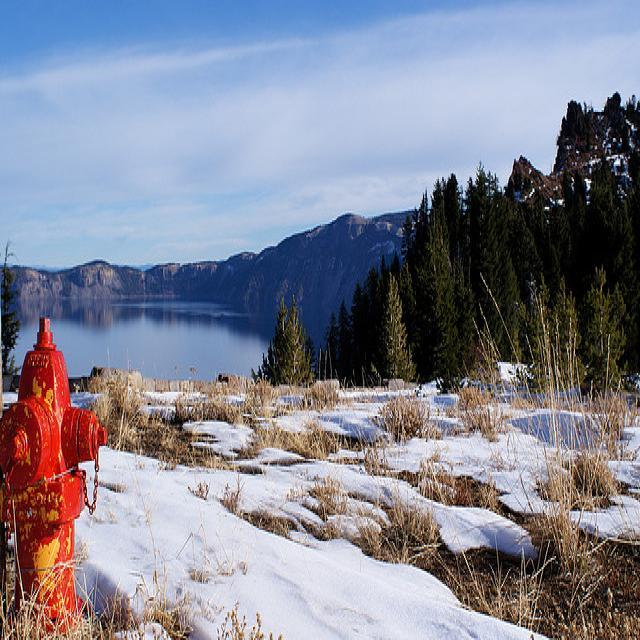fire_hydrant: (0, 315, 108, 638)
